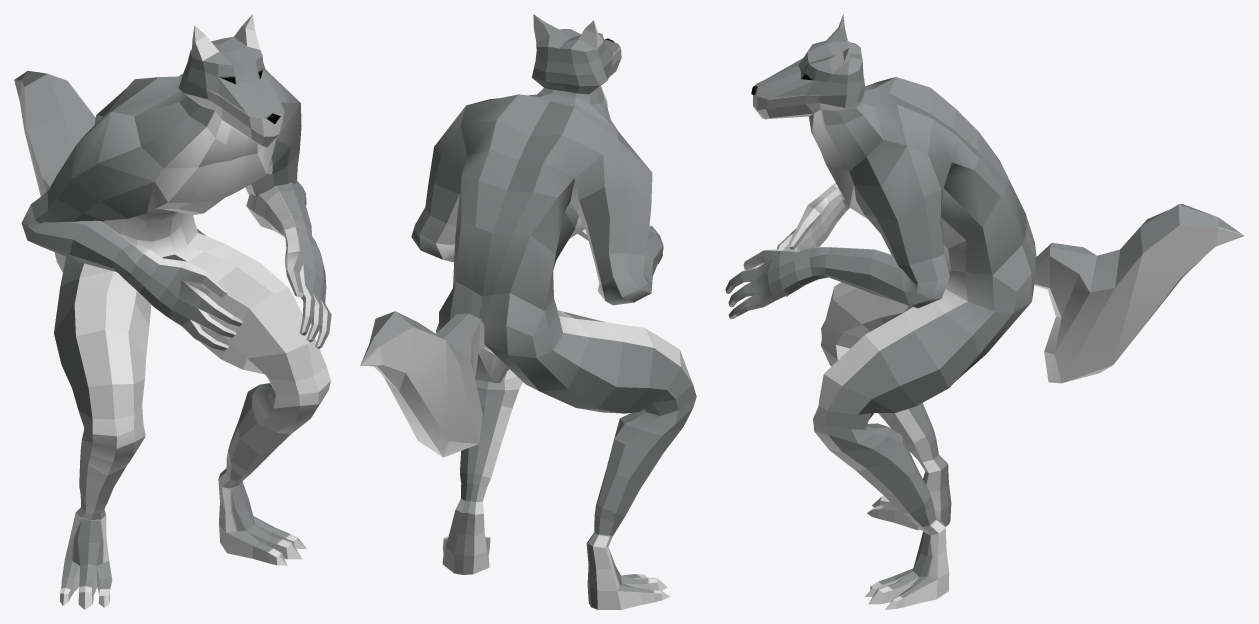
File: WolfIdle_(117).obj
The picture shows the model from 3 angles, left to right: view 1: azimuth 30°, elevation 25°; view 2: azimuth 150°, elevation 25°; view 3: azimuth 270°, elevation 25°; orthographic projection. The views are drawn at different scales.
Parts seen in each view (by area): view 1: Box001; view 2: Box001; view 3: Box001.
Boxes of the visible parts, x1,y1,x2,y2 form: Box001: [14, 14, 331, 609]; Box001: [360, 14, 696, 609]; Box001: [725, 14, 1244, 609].
Size of the model in its own units: 62.68 by 131 by 115.
